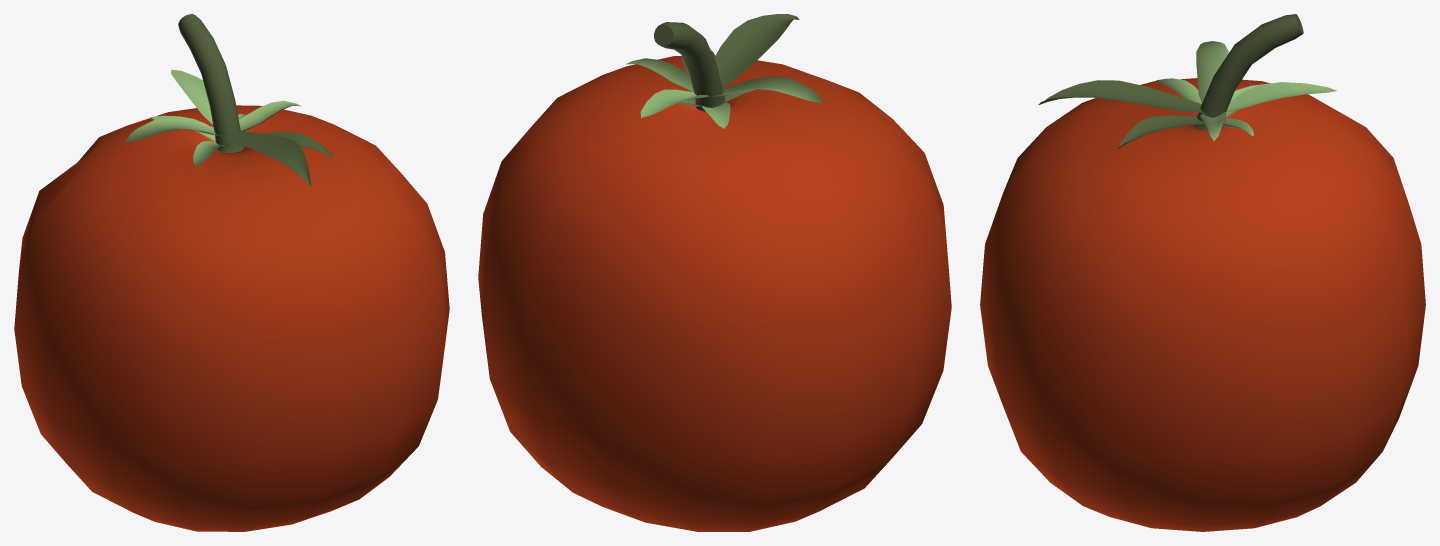
The model's file is 3D_Items_Tomato.fbx.
3 views of the same model, side by side, from view 1: azimuth 30°, elevation 25°; view 2: azimuth 150°, elevation 25°; view 3: azimuth 270°, elevation 25° (orthographic). The views are drawn at different scales.
Visible parts, largest first — view 1: 3D_Items_Tomato; view 2: 3D_Items_Tomato; view 3: 3D_Items_Tomato.
Part boxes in pixels (x1,y1,x2,y2): 3D_Items_Tomato: (14, 14, 449, 531); 3D_Items_Tomato: (478, 14, 951, 531); 3D_Items_Tomato: (980, 14, 1425, 531).
Bounding box in the file's own units: 75.52 × 88.16 × 73.76.
